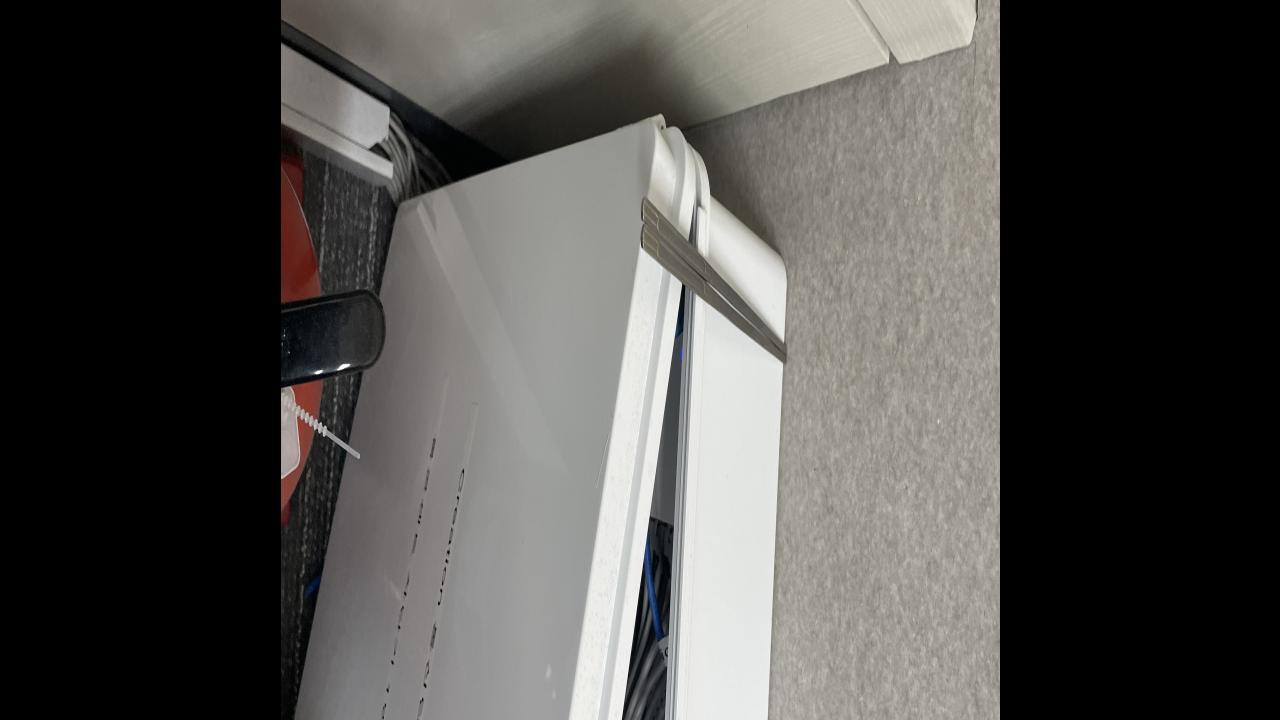chopstick: (638, 200, 786, 372)
